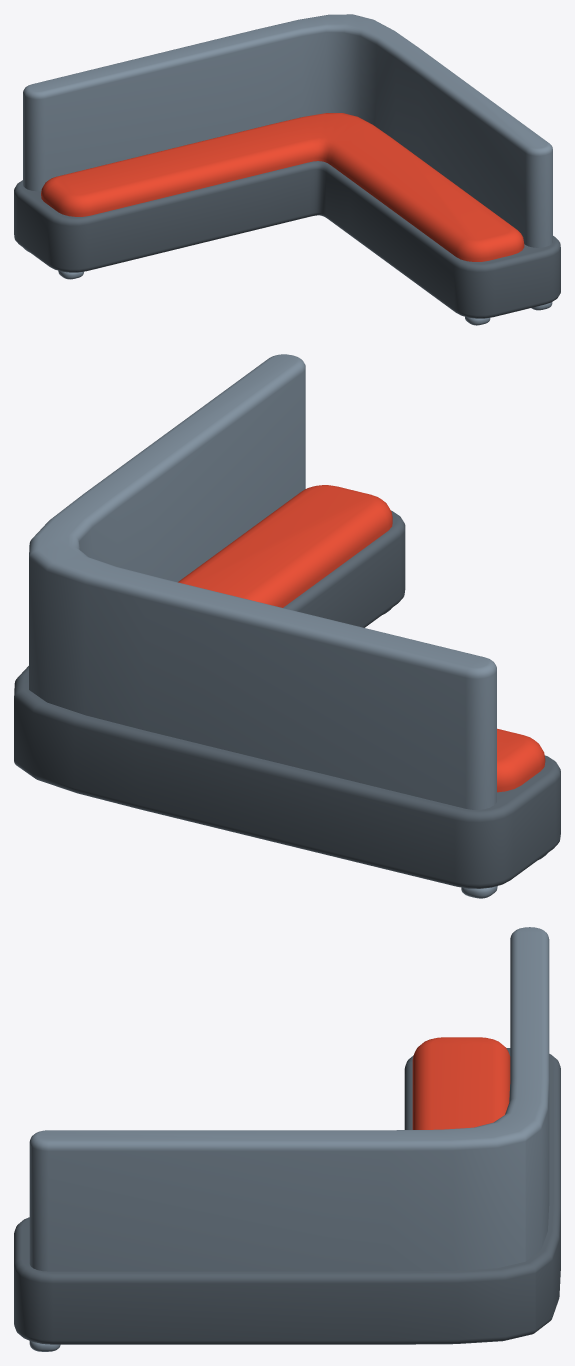
File: Long_Corner_Couch.fbx
3 renders of one model, top to bottom at view 1: azimuth 30°, elevation 25°; view 2: azimuth 150°, elevation 25°; view 3: azimuth 270°, elevation 25°, orthographic. The views are drawn at different scales.
Parts seen in each view (by area): view 1: Long Corner Couch; view 2: Long Corner Couch; view 3: Long Corner Couch.
Boxes of the visible parts, bbox=[...] form: Long Corner Couch: bbox=[14, 14, 560, 325]; Long Corner Couch: bbox=[14, 354, 560, 898]; Long Corner Couch: bbox=[14, 927, 560, 1351].
Size of the model in its own units: 350 by 150 by 350.
